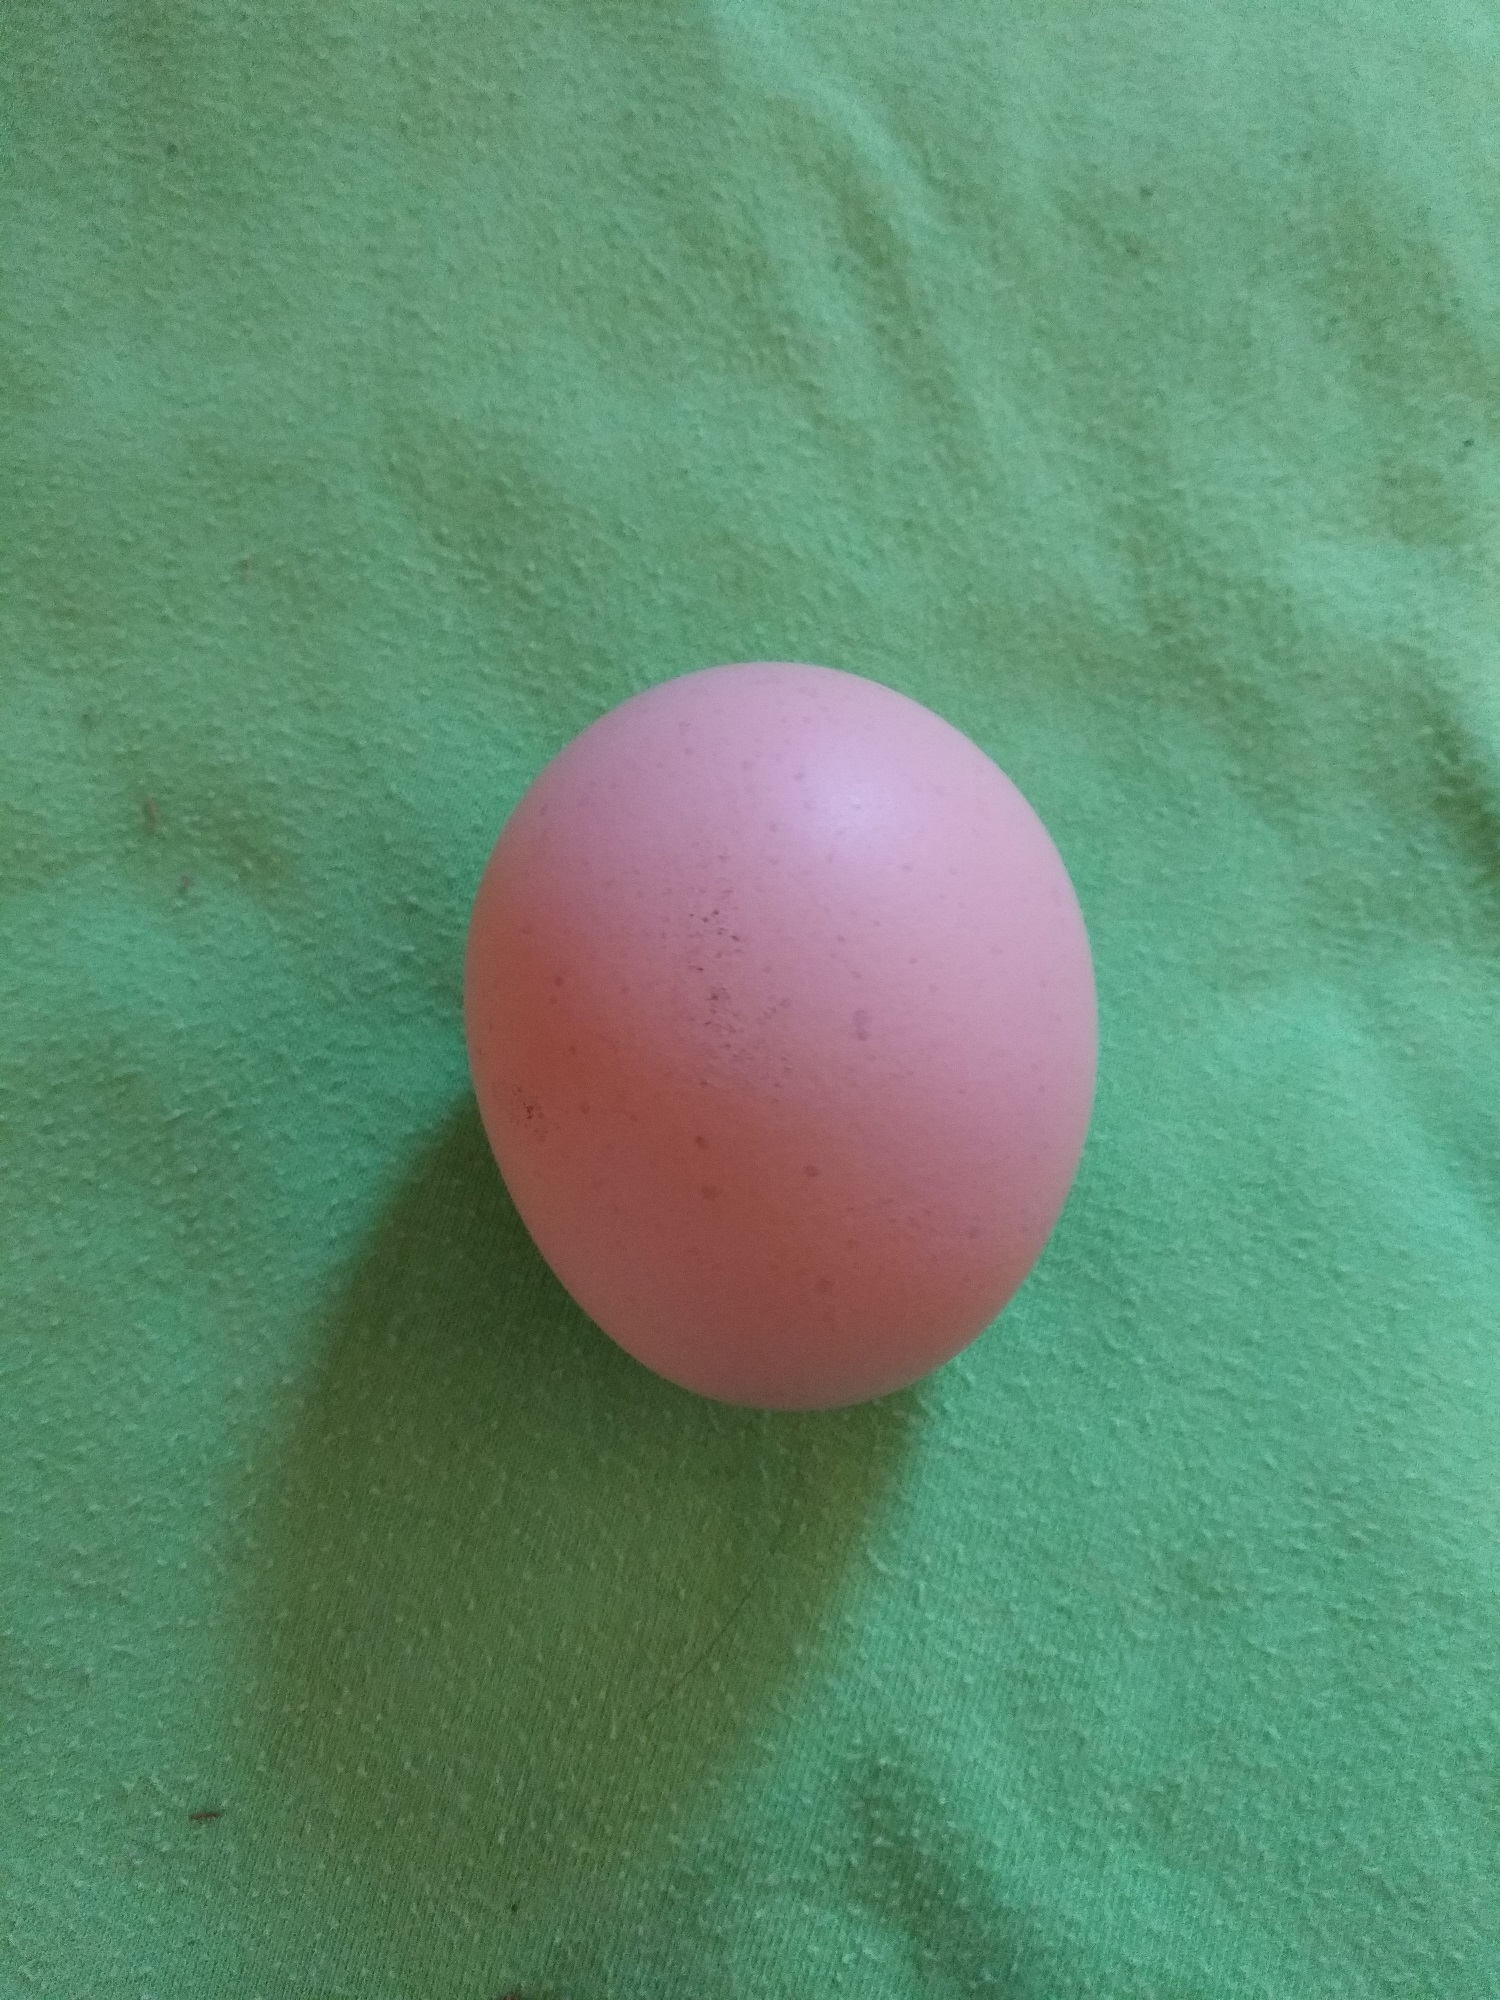Female: (454, 652, 1109, 1419)
